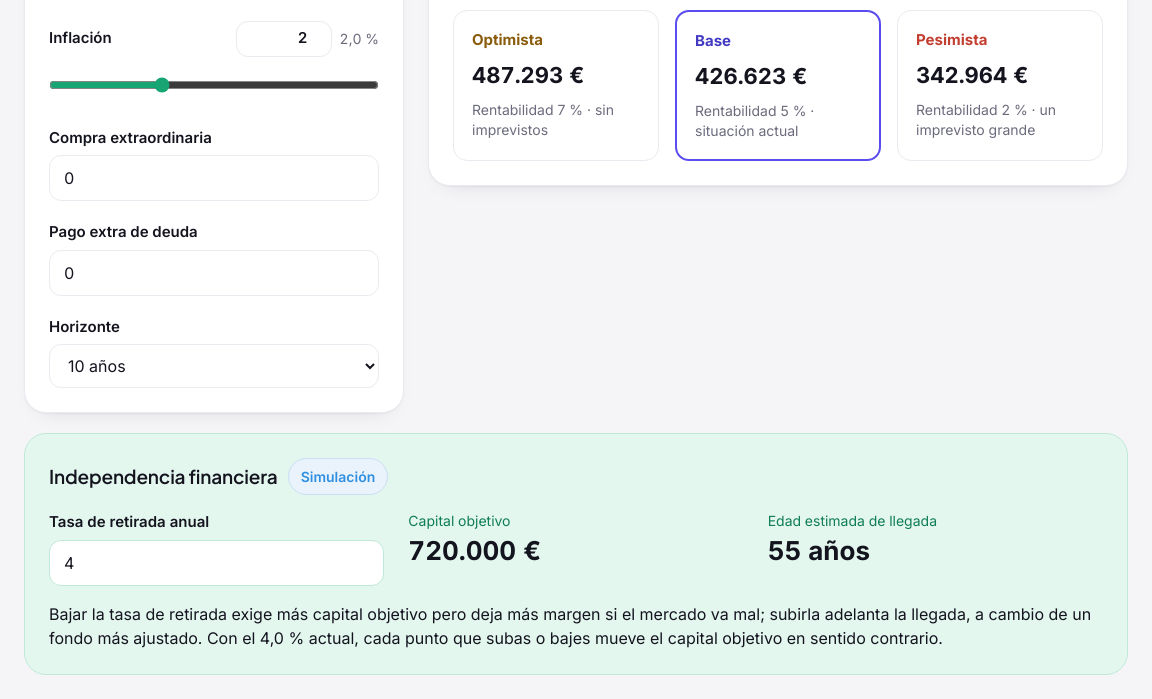
it: PlanningPage › la tasa de retirada es editable y mueve el capital objetivo en vivo
This screenshot has width=1152, height=699.
(page scrolled)
Check: the text "720.000 €" is shown, box [408,535,541,566]
Replace the text in the number field labelled "Tasa de retirada anual" with "3" at (217, 562), box [49,540,384,586]
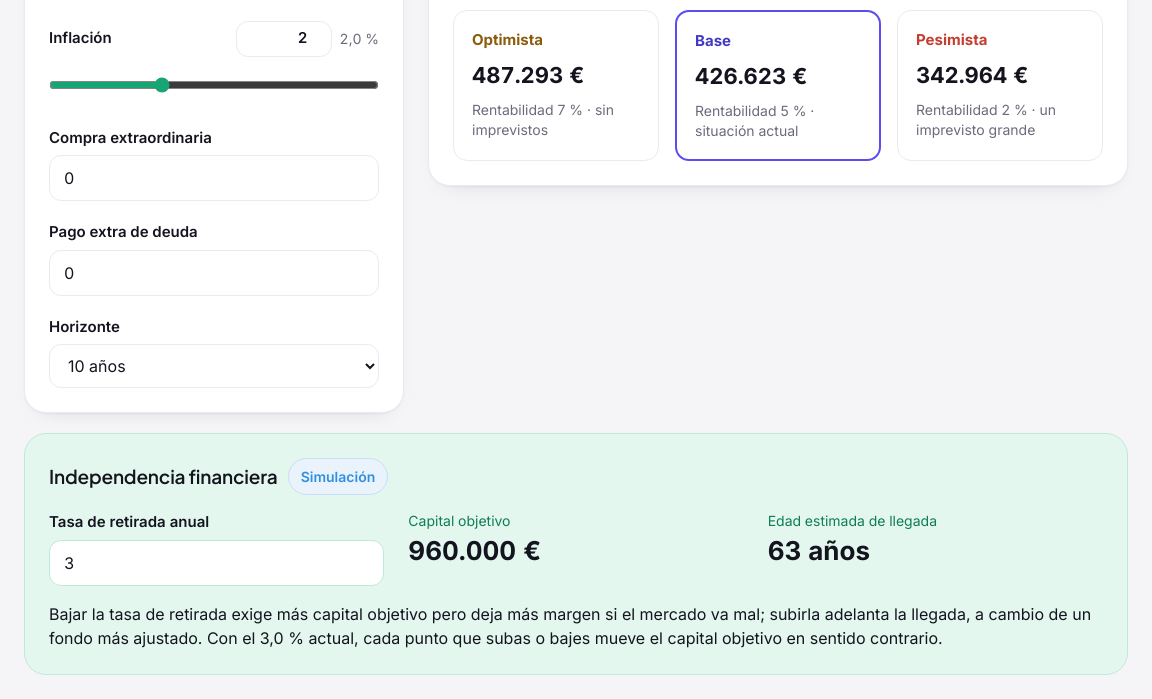
Check: the text "960.000 €" is shown, box [408,535,541,566]
